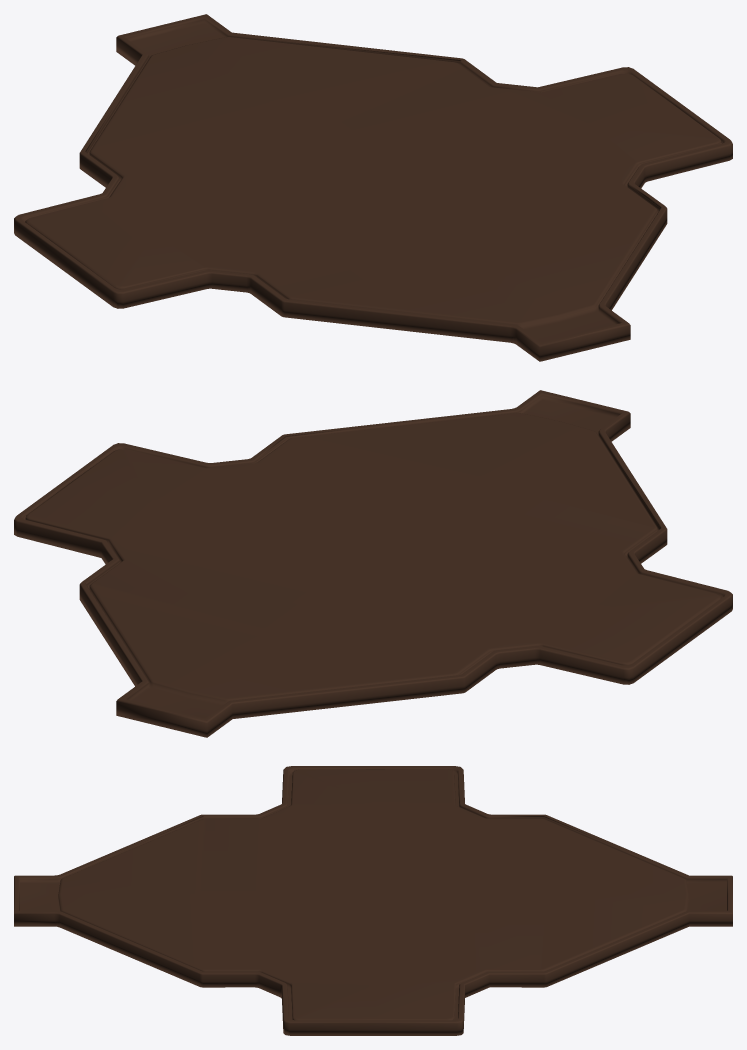
The model's file is room 1 floor.fbx.
3 views of the same model, one above another, from view 1: azimuth 30°, elevation 25°; view 2: azimuth 150°, elevation 25°; view 3: azimuth 270°, elevation 25° (orthographic). The views are drawn at different scales.
Parts seen in each view (by area): view 1: Cube.067; view 2: Cube.067; view 3: Cube.067.
Boxes of the visible parts, <box> form: Cube.067: <box>14,14,732,361</box>; Cube.067: <box>14,390,732,737</box>; Cube.067: <box>14,766,732,1035</box>.
Size of the model in its own units: 12447 by 313 by 14758.
